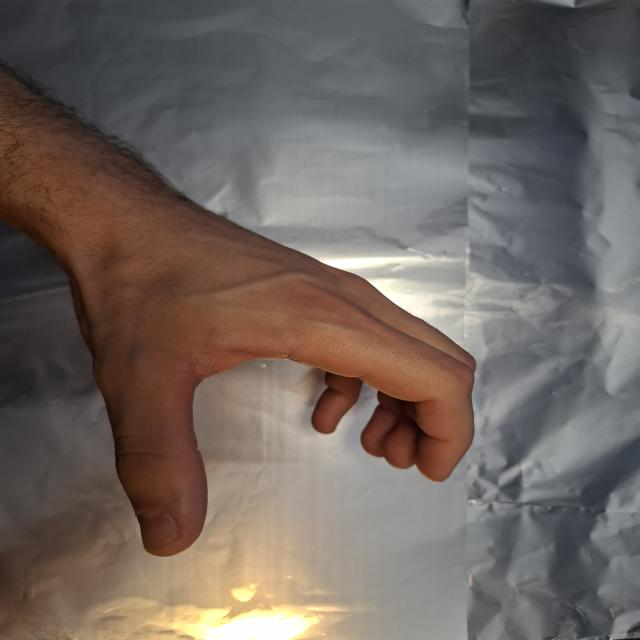glove_off: (29, 178, 481, 560)
